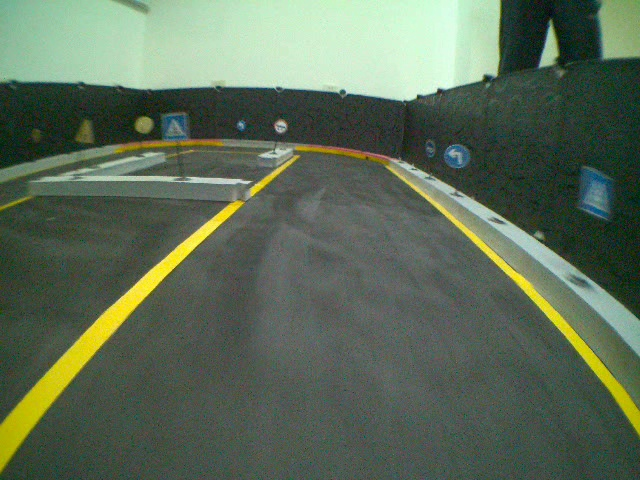Check: (273, 115, 290, 133)
crossing: (158, 111, 191, 146)
turn: (446, 143, 472, 170)
